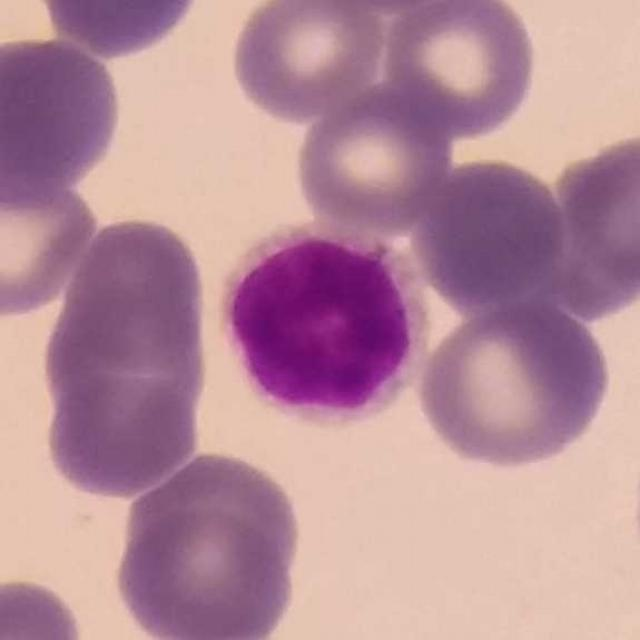Lymphocyte: (220, 227, 436, 432)
RBC: (412, 295, 615, 474), (36, 280, 214, 448), (112, 502, 304, 640), (53, 212, 214, 376), (410, 152, 572, 313), (121, 455, 304, 594), (291, 80, 455, 235), (378, 0, 540, 141), (38, 369, 206, 501), (0, 32, 127, 206), (226, 0, 388, 125), (0, 158, 101, 322), (551, 126, 640, 296), (31, 0, 207, 60), (0, 572, 88, 640), (318, 0, 491, 16)
